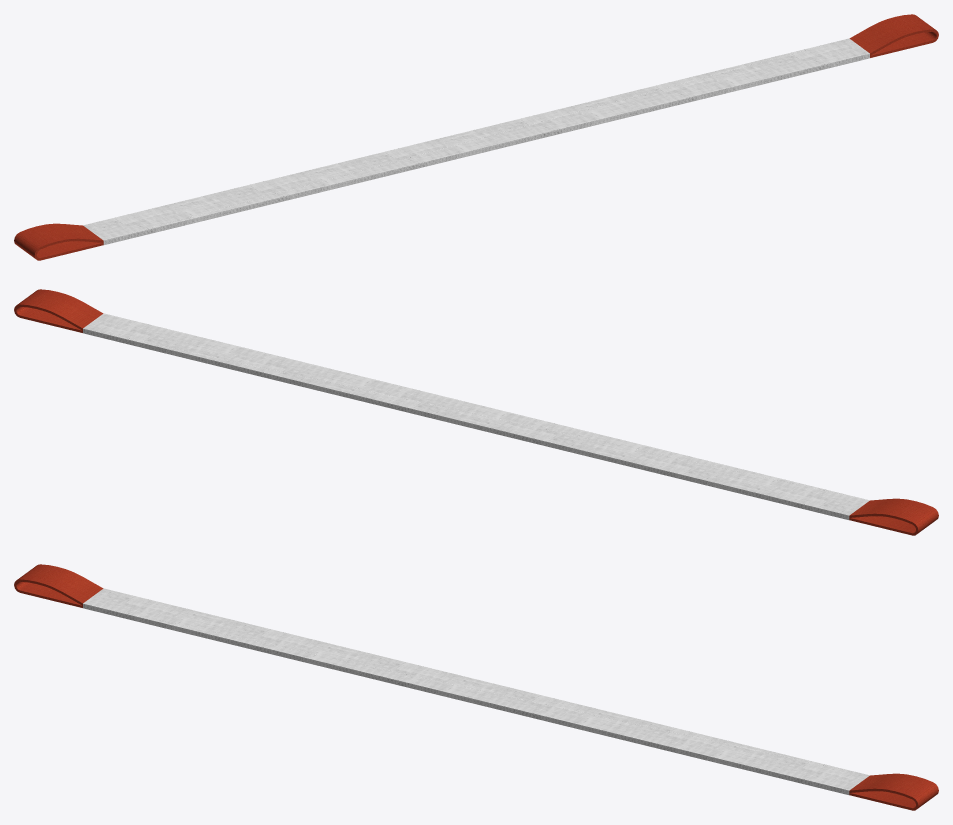
File: qizhongdiaozhaungdai.FBX
The picture shows the model from 3 angles, top to bottom: view 1: azimuth 30°, elevation 25°; view 2: azimuth 150°, elevation 25°; view 3: azimuth 330°, elevation 25°; orthographic projection.
Visible parts, largest first — view 1: Line001, Line003, Line002; view 2: Line001, Line003, Line002; view 3: Line001, Line002, Line003.
Boxes of the visible parts, <box> form: Line001: <box>83,38,869,244</box>; Line003: <box>849,14,938,57</box>; Line002: <box>14,223,103,260</box>; Line001: <box>83,313,869,519</box>; Line003: <box>14,289,103,332</box>; Line002: <box>849,498,938,535</box>; Line001: <box>83,588,869,794</box>; Line002: <box>14,564,103,607</box>; Line003: <box>849,773,938,810</box>.
Size of the model in its own units: 201 by 3.21 by 8.
2 materials, 2 textured.
